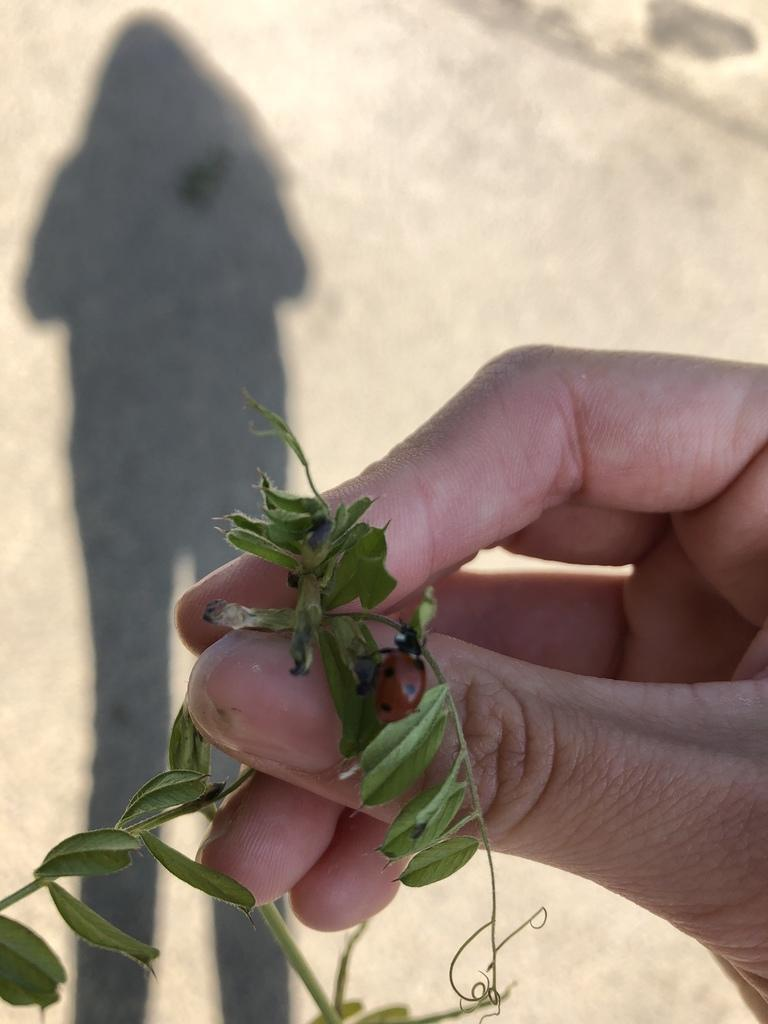ladybug: (357, 615, 431, 727)
